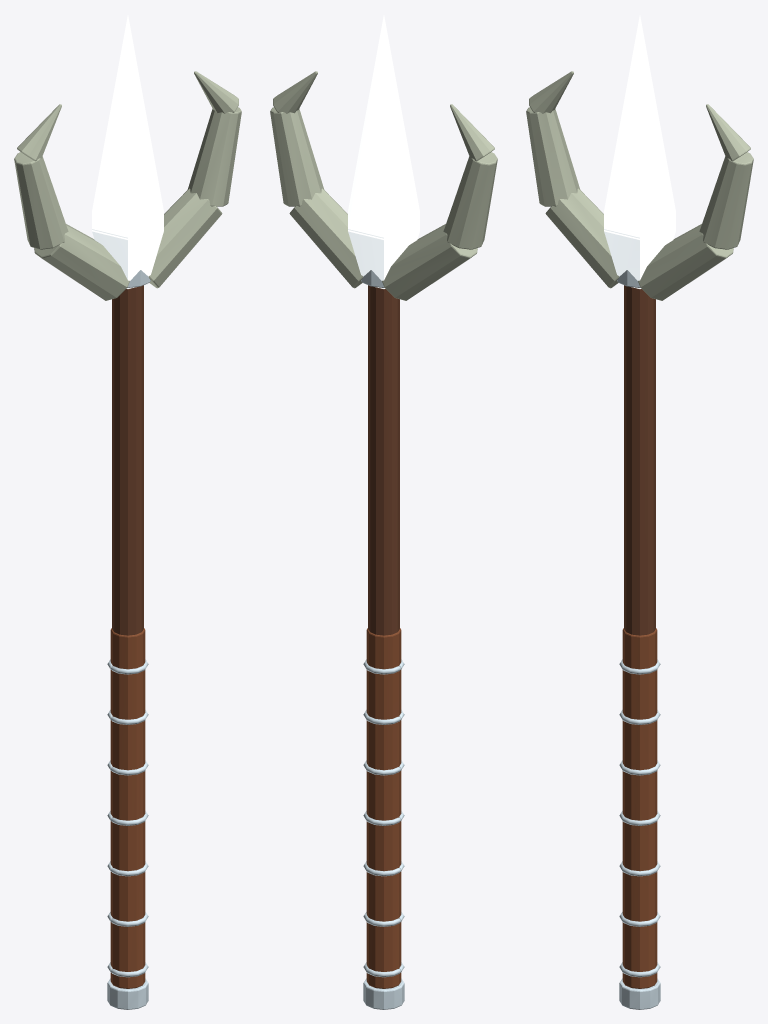
The model's file is item_044.glb.
3 renders of one model, left to right at view 1: azimuth 30°, elevation 25°; view 2: azimuth 150°, elevation 25°; view 3: azimuth 330°, elevation 25°, orthographic.
Parts seen in each view (by area): view 1: Item_044_goat_horn_pike; view 2: Item_044_goat_horn_pike; view 3: Item_044_goat_horn_pike.
Boxes of the visible parts, bbox=[...] form: Item_044_goat_horn_pike: bbox=[14, 15, 241, 1009]; Item_044_goat_horn_pike: bbox=[270, 15, 497, 1009]; Item_044_goat_horn_pike: bbox=[526, 15, 753, 1009].
Size of the model in its own units: 0.5372 by 2.27 by 0.1498.
